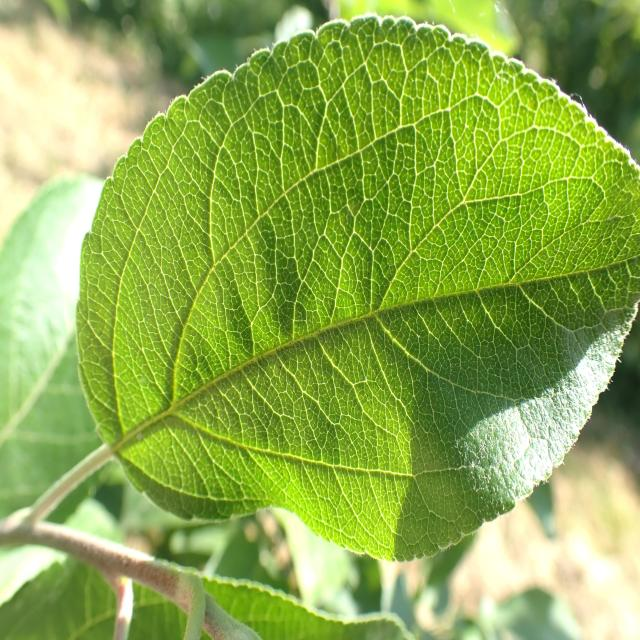healthy: (78, 12, 639, 562), (3, 546, 417, 640)
